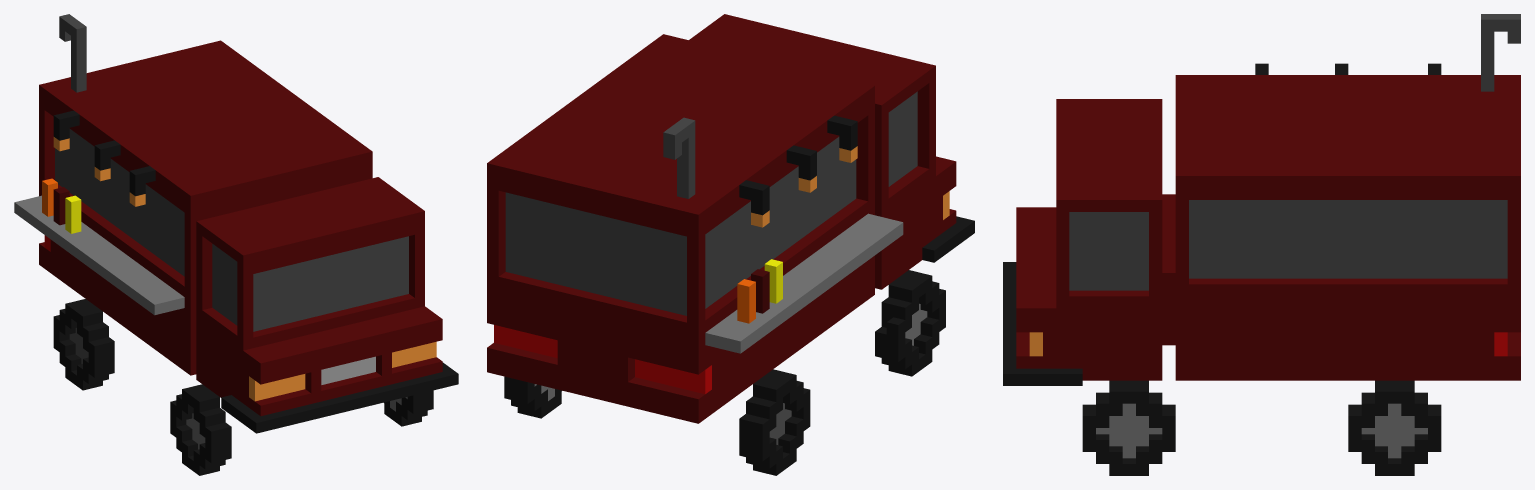
Rendered from red_truck.vox.obj.
The picture shows the model from 3 angles, left to right: view 1: azimuth 30°, elevation 25°; view 2: azimuth 150°, elevation 25°; view 3: azimuth 270°, elevation 25°; orthographic projection. The views are drawn at different scales.
Size of the model in its own units: 2.3 by 3 by 3.9.
1 material, 1 textured.
